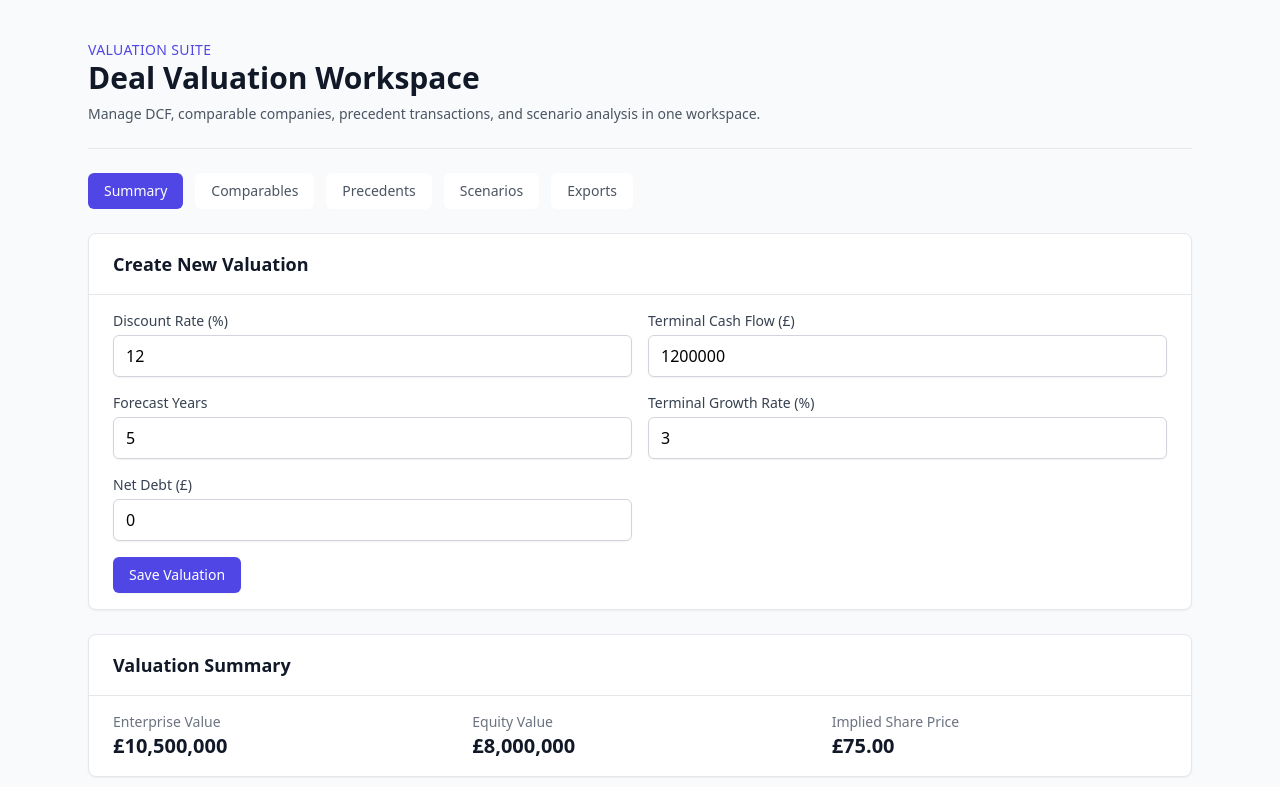
Test: ValuationSuite RED tests › shows validation error when scenario assumptions JSON is invalid
The width and height of the screenshot is (1280, 787).
Expected: the text "£10,500,000" is shown, [113,732,227,759]
Click the tab "Scenarios". click: click(492, 191)
box: [444,173,539,209]
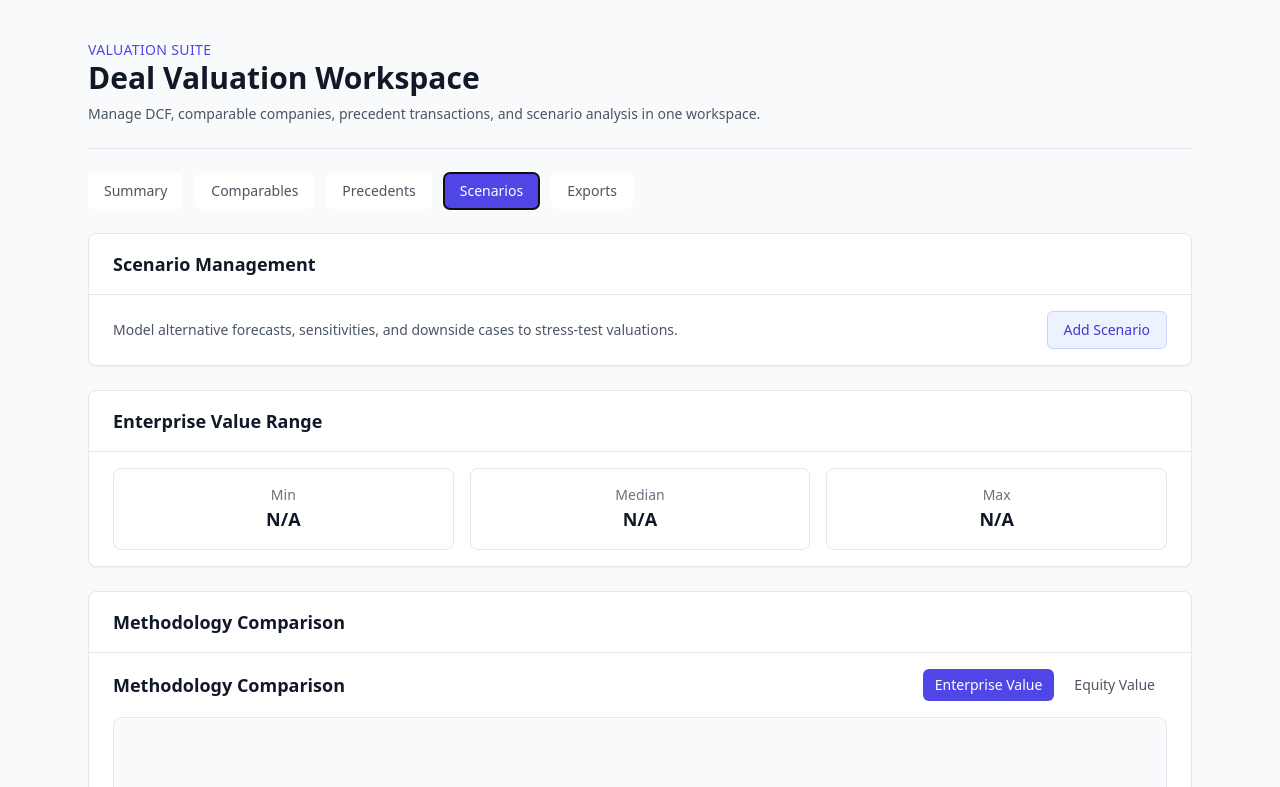
Click the button "Add Scenario". click: click(1107, 330)
box: [1046,311,1167,349]
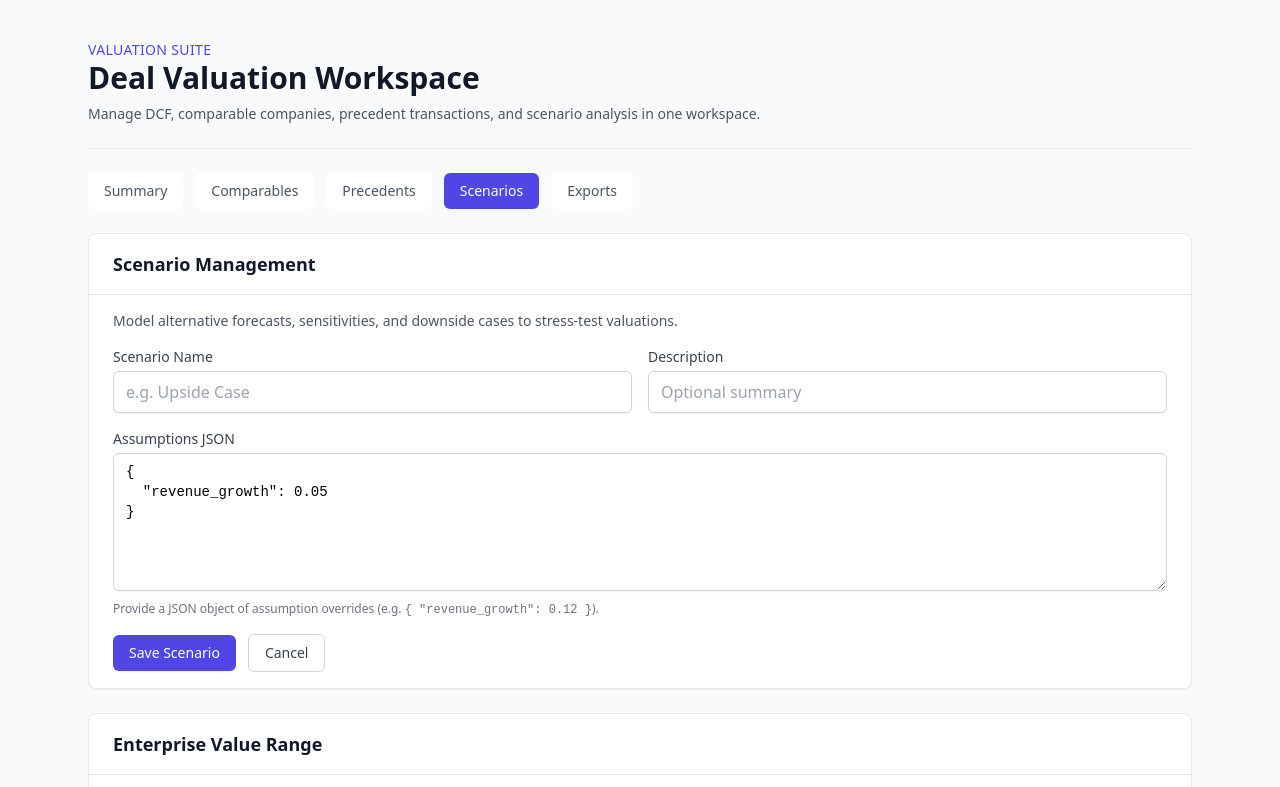
Type "Broken JSON" into the field labelled "Scenario Name". click: (372, 392)
box: [113,371,632,413]
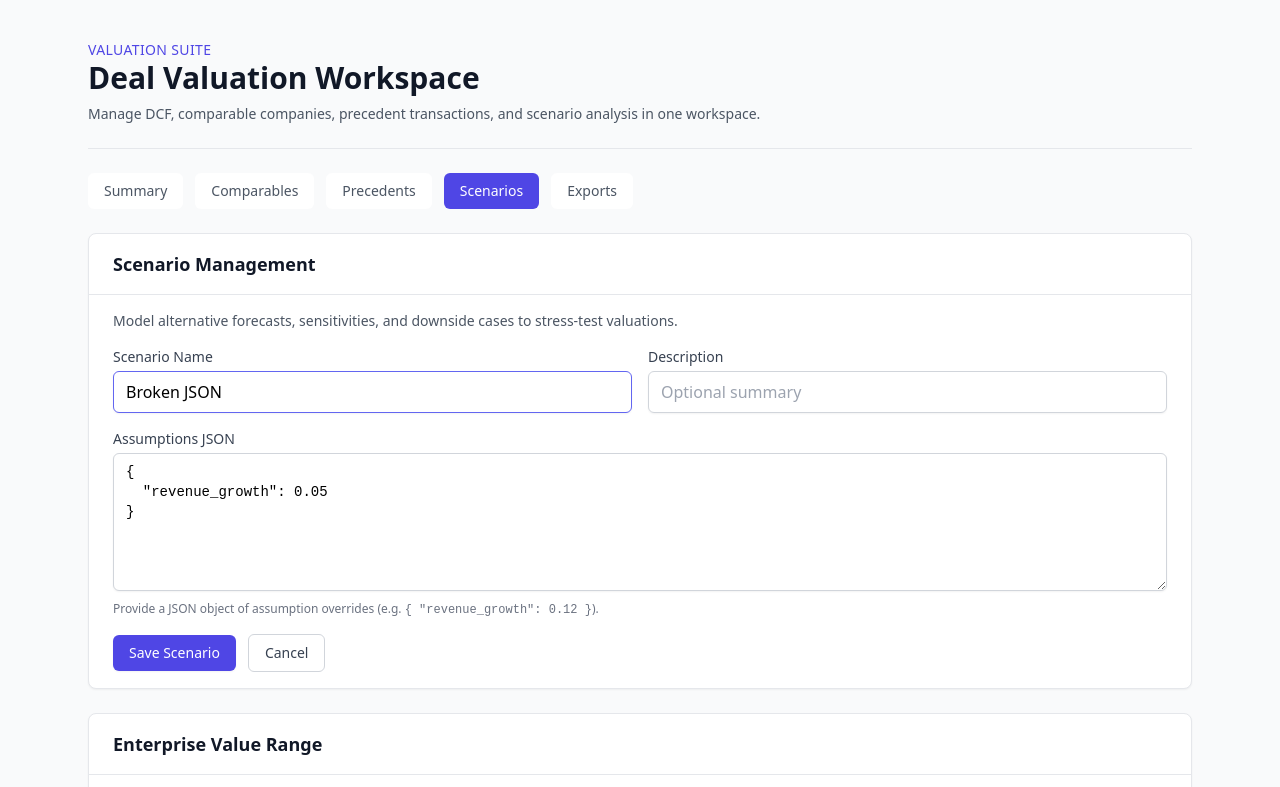
Clear the text box labelled "Assumptions JSON". click: (640, 522)
box: [113,453,1167,591]
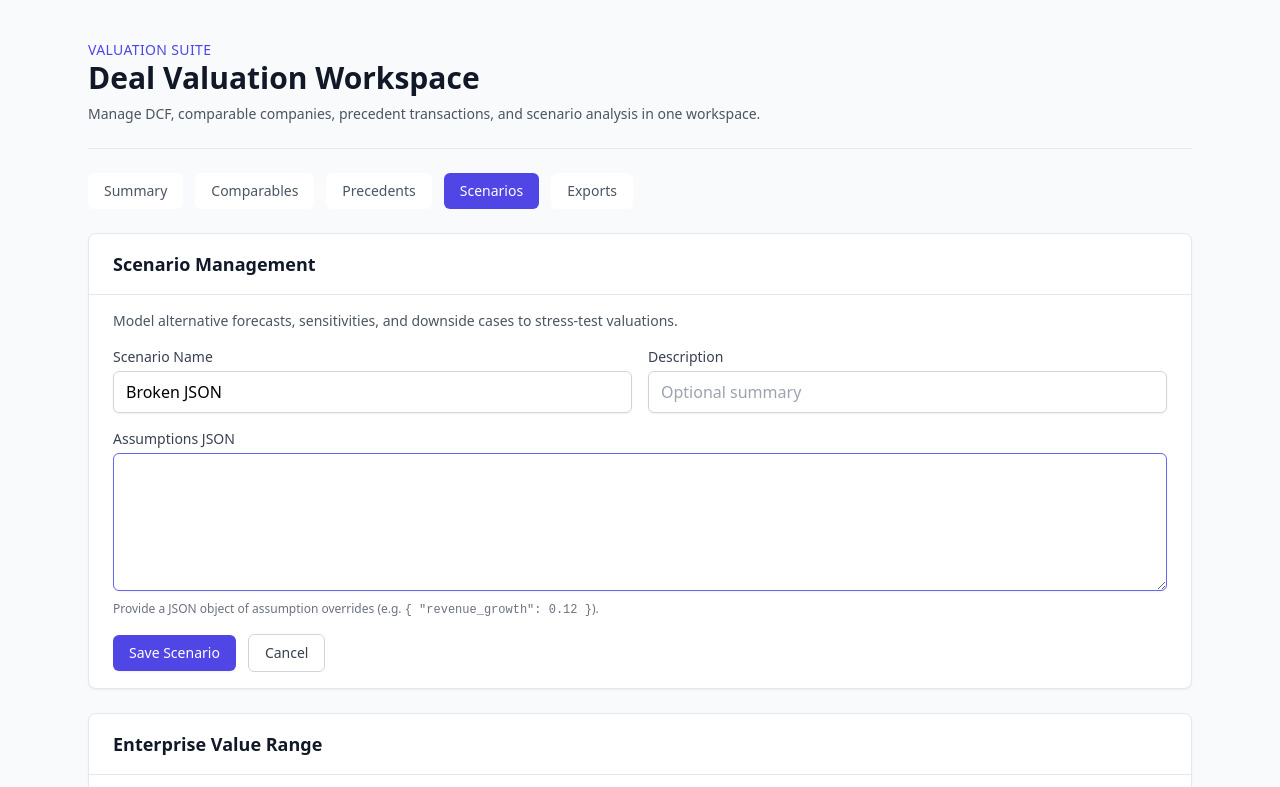
Type keys "{not valid"
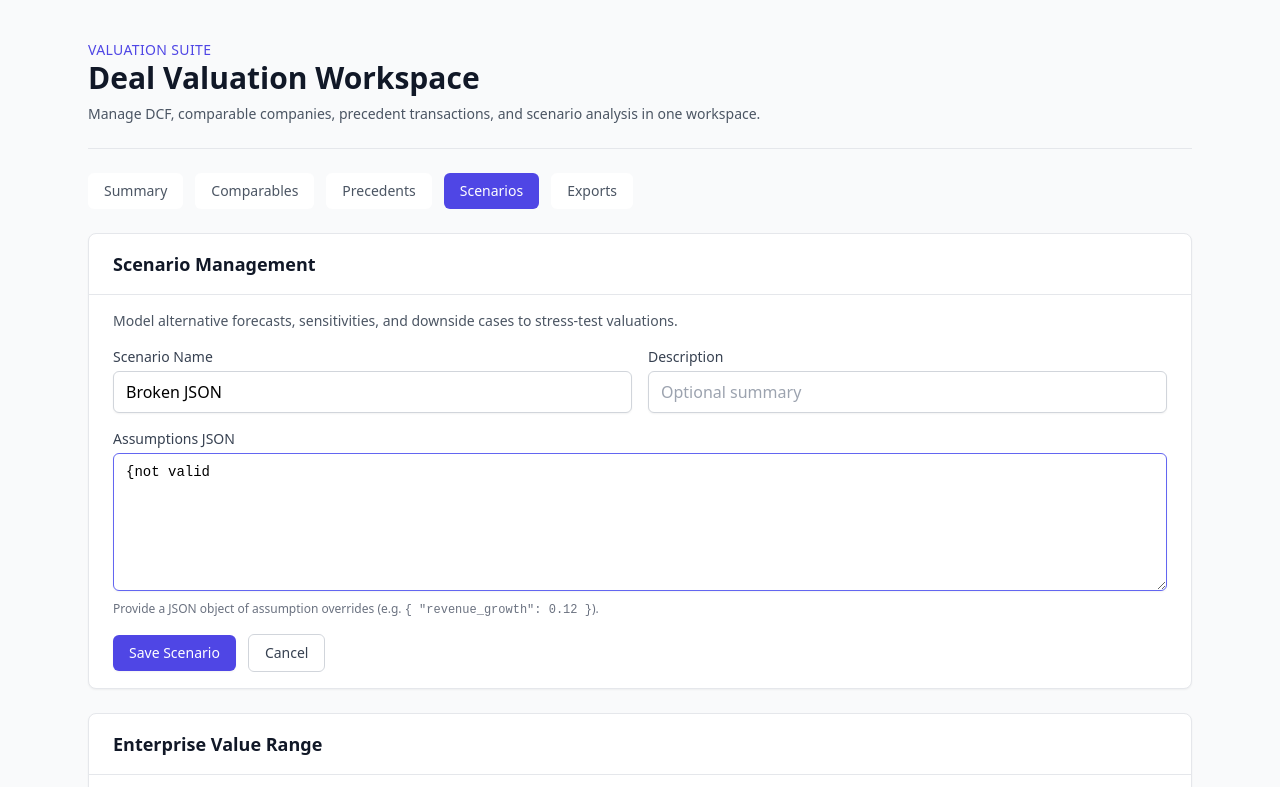
Click the button "Save Scenario". click: click(174, 653)
box: [113,635,236,671]
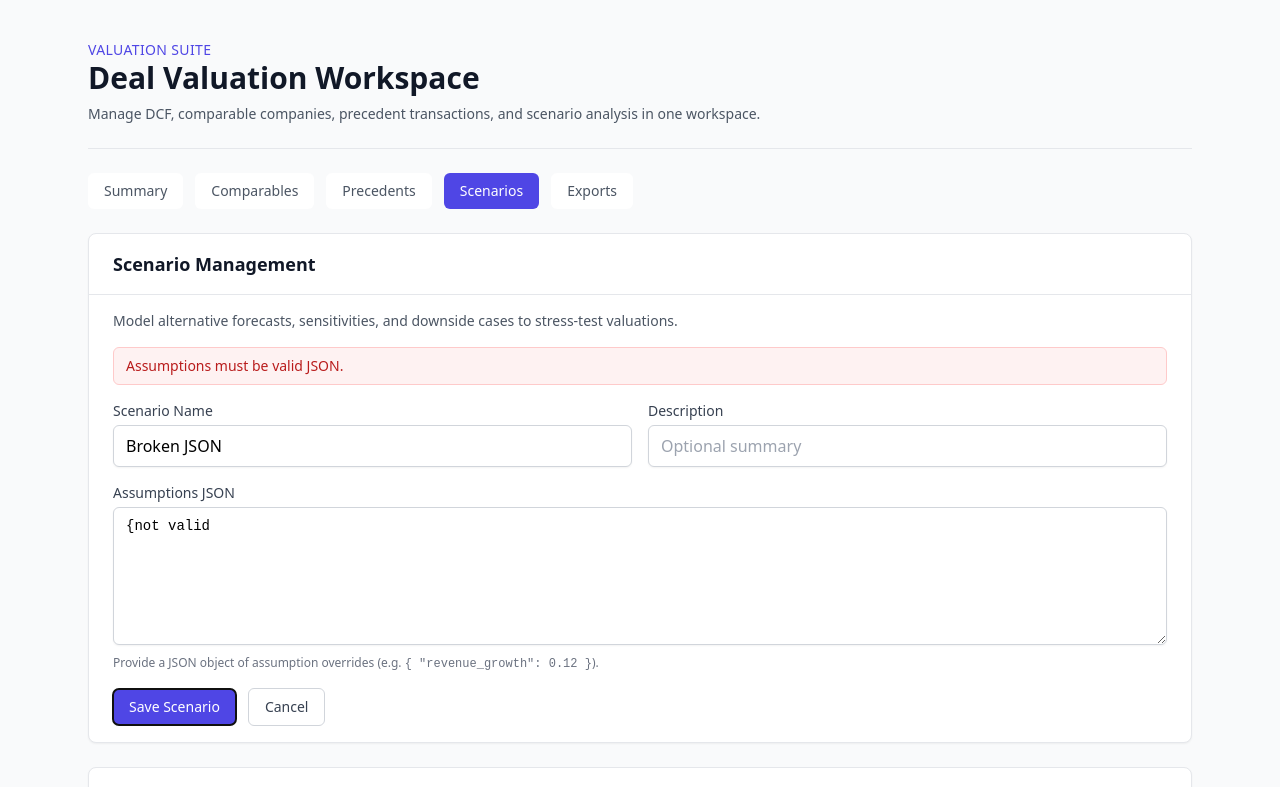
Now the text "Assumptions must be valid JSON." is shown, box [113,347,1167,385]
